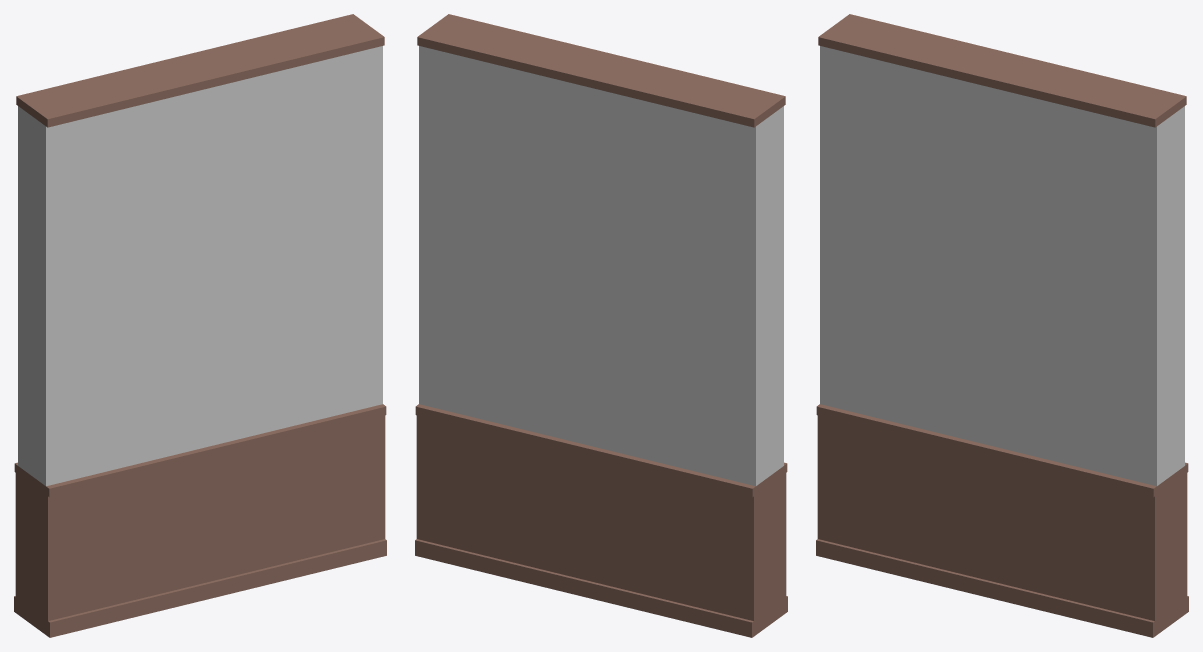
The model's file is Wall1.fbx.
3 renders of one model, left to right at view 1: azimuth 30°, elevation 25°; view 2: azimuth 150°, elevation 25°; view 3: azimuth 330°, elevation 25°, orthographic.
Parts seen in each view (by area): view 1: Plane.020; view 2: Plane.020; view 3: Plane.020.
Part boxes in pixels (x1=…): Plane.020: x1=14, y1=14, x2=386, y2=637; Plane.020: x1=415, y1=14, x2=787, y2=637; Plane.020: x1=816, y1=14, x2=1188, y2=637.
Bounding box in the file's own units: 1383 × 2028 × 255.
